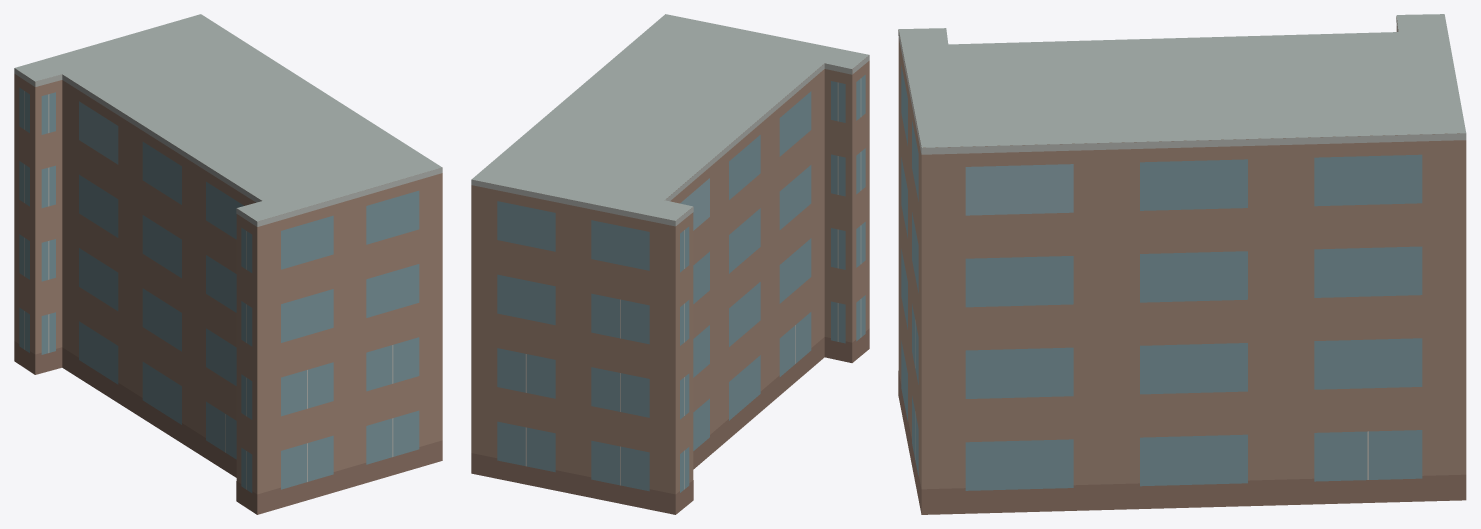
Rendered from survey-upis-32699401.glb.
3 views of the same model, side by side, from view 1: azimuth 30°, elevation 25°; view 2: azimuth 150°, elevation 25°; view 3: azimuth 270°, elevation 25° (orthographic). The views are drawn at different scales.
Parts seen in each view (by area): view 1: survey-upis-32699401.tmp; view 2: survey-upis-32699401.tmp; view 3: survey-upis-32699401.tmp.
Part boxes in pixels (left/top/right/bottom): survey-upis-32699401.tmp: left=14, top=14, right=442, bottom=514; survey-upis-32699401.tmp: left=471, top=14, right=869, bottom=514; survey-upis-32699401.tmp: left=898, top=14, right=1466, bottom=514.
Bounding box in the file's own units: 10.09 × 12.89 × 18.08.
